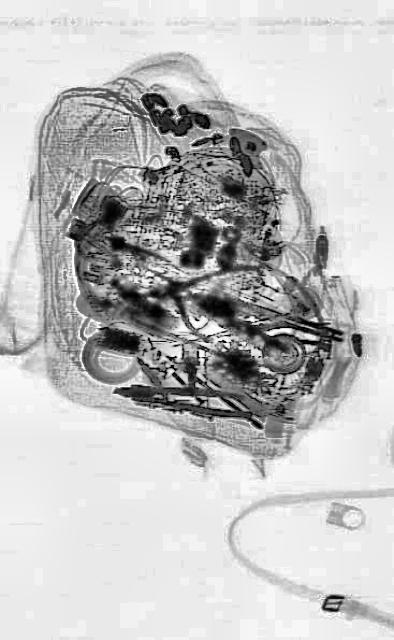Pliers: (145, 237, 259, 351), (112, 378, 252, 420)
